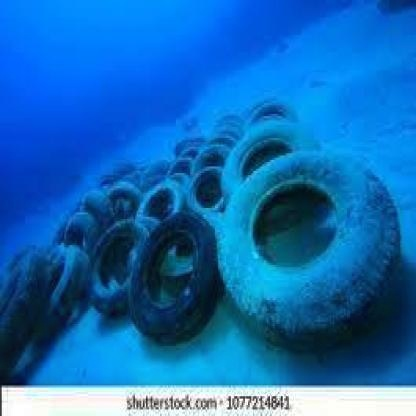tire: (220, 143, 403, 342), (129, 212, 235, 340), (216, 120, 326, 184), (2, 252, 47, 374), (86, 228, 154, 302), (36, 254, 91, 324), (61, 186, 140, 234), (127, 179, 201, 219), (187, 164, 235, 212), (245, 90, 304, 125), (187, 127, 231, 169), (164, 147, 202, 184)
